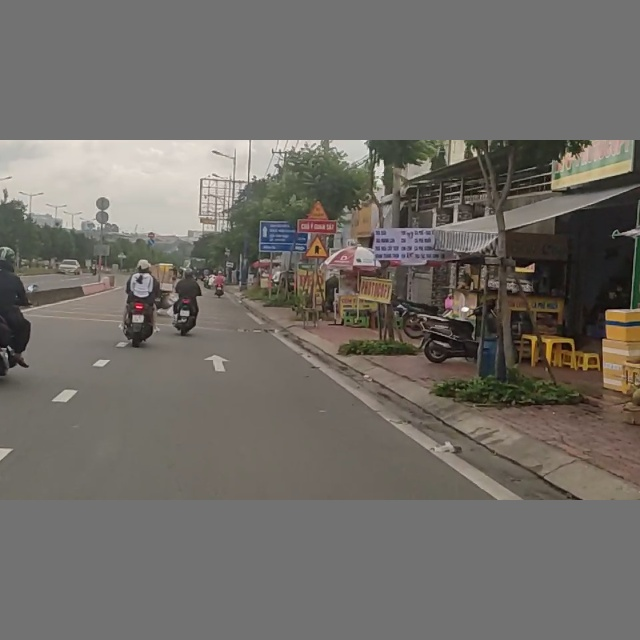W.207: (303, 235, 331, 258)
